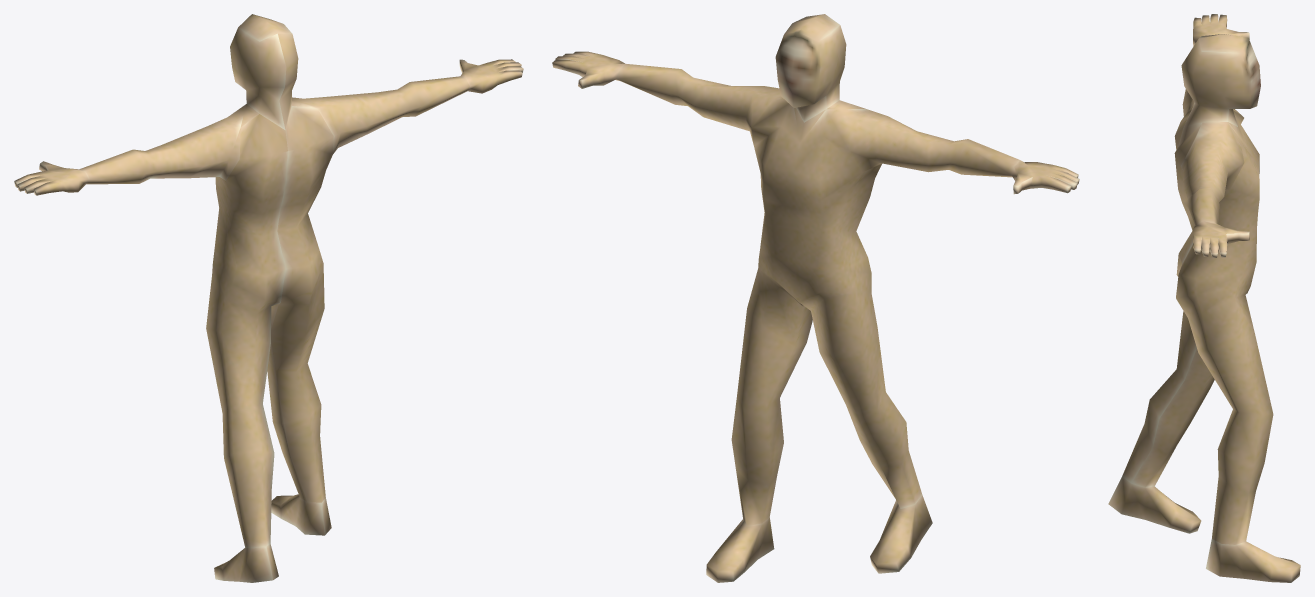
The model's file is human_000005.obj.
The picture shows the model from 3 angles, left to right: view 1: azimuth 30°, elevation 25°; view 2: azimuth 150°, elevation 25°; view 3: azimuth 270°, elevation 25°; orthographic projection. The views are drawn at different scales.
Bounding box in the file's own units: 1.87 × 1.9 × 0.6362.
